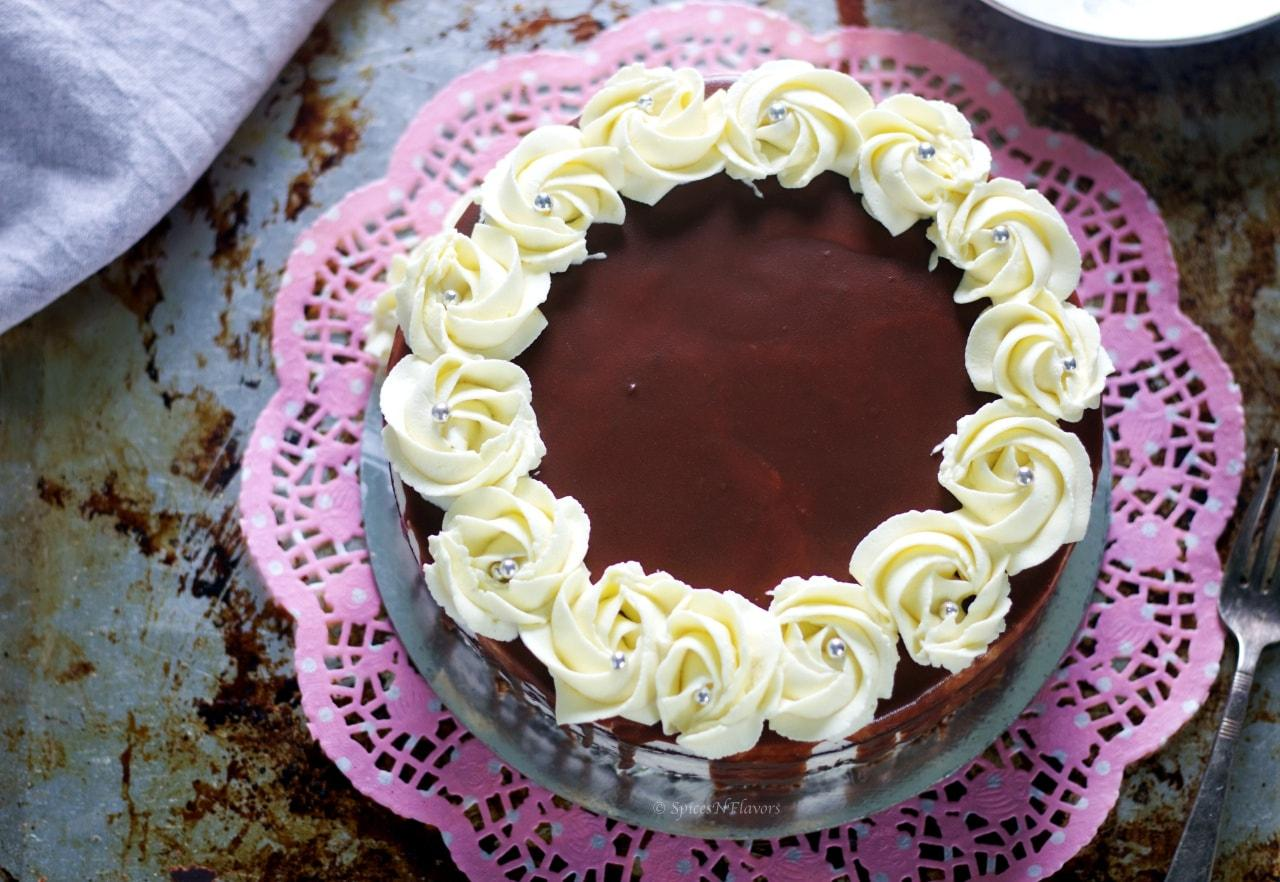momos-samosa-chapati: (380, 352, 545, 510)
